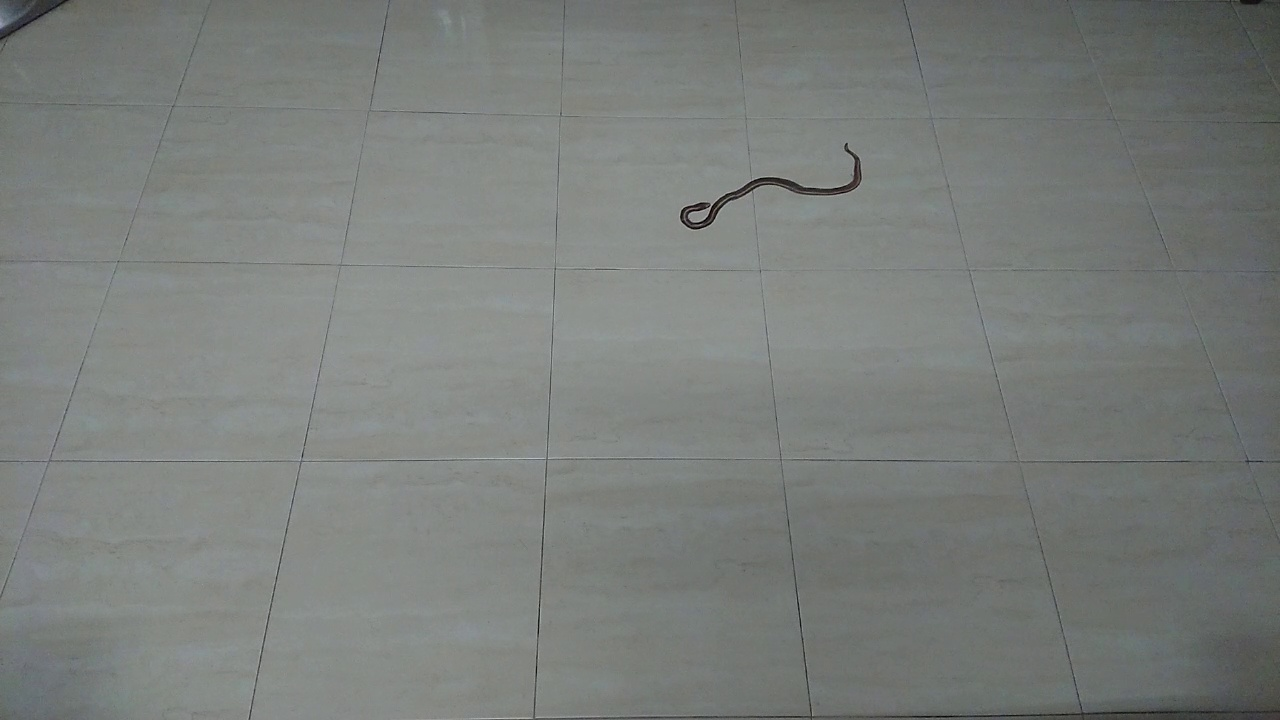snake: (663, 135, 876, 242)
